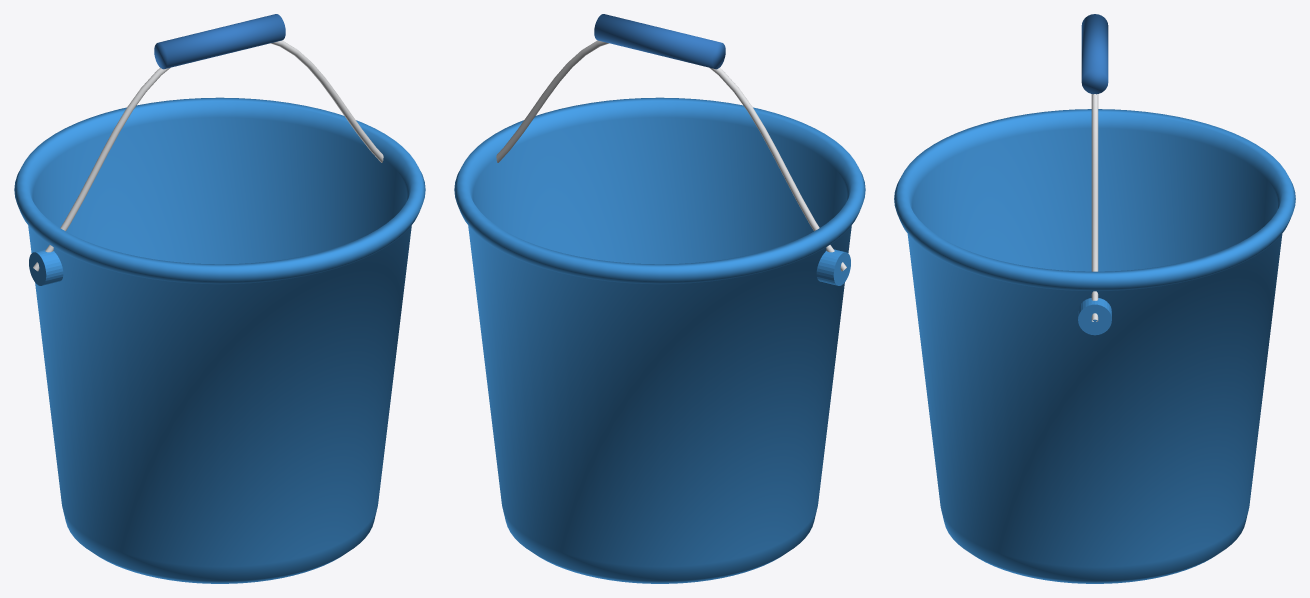
File: item-12.glb
3 views of the same model, side by side, from view 1: azimuth 30°, elevation 25°; view 2: azimuth 150°, elevation 25°; view 3: azimuth 270°, elevation 25° (orthographic). The views are drawn at different scales.
Parts seen in each view (by area): view 1: bucket, Cylinder.002, bail, Cylinder; view 2: bucket, Cylinder.002, bail, Cylinder; view 3: bucket, Cylinder.002, bail, Cylinder.001.
Part boxes in pixels (x1,y1,x2,y2): bucket: (14,97,425,583); Cylinder.002: (154,14,285,69); bail: (33,40,383,271); Cylinder: (29,249,63,285); bucket: (454,97,865,583); Cylinder.002: (594,14,725,69); bail: (496,40,846,271); Cylinder: (816,249,850,285); bucket: (894,109,1295,583); Cylinder.002: (1081,14,1108,94); bail: (1091,94,1098,321); Cylinder.001: (1078,298,1111,335).
Bounding box in the file's own units: 0.3477 × 0.439 × 0.332.
